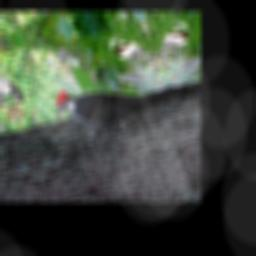Woodpecker: (45, 66, 181, 144)
